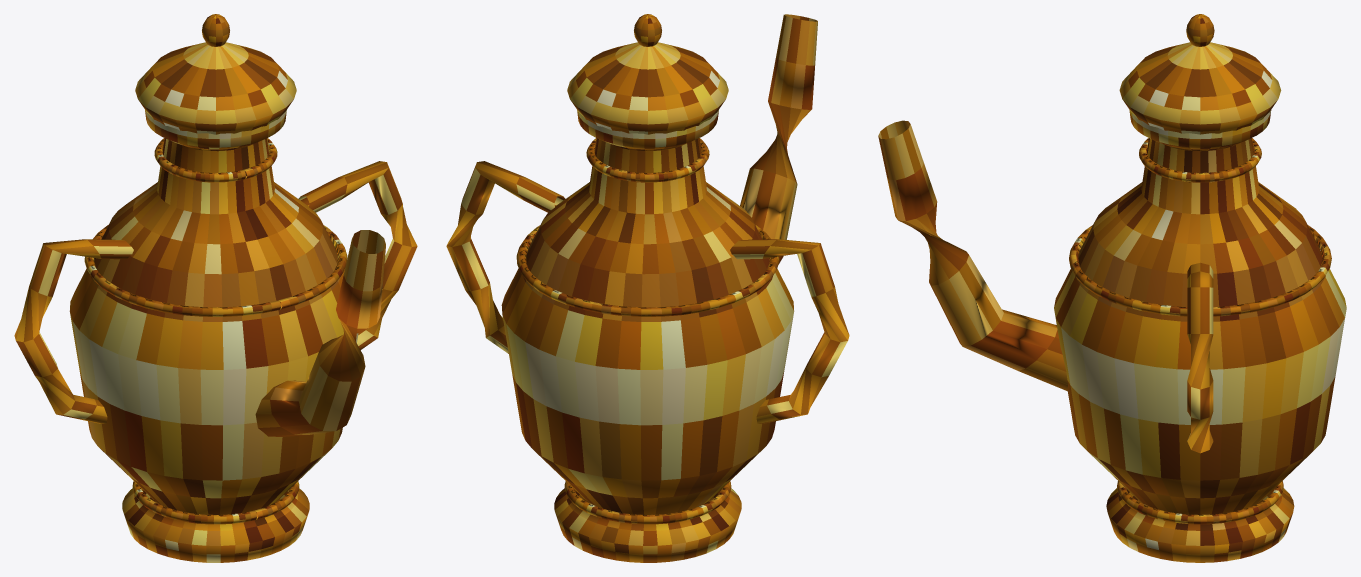
File: gold-ewer.glb
3 views of the same model, side by side, from view 1: azimuth 30°, elevation 25°; view 2: azimuth 150°, elevation 25°; view 3: azimuth 270°, elevation 25° (orthographic).
Visible parts, largest first — view 1: gold-ewer; view 2: gold-ewer; view 3: gold-ewer.
Boxes of the visible parts, left/top/right/bottom form: gold-ewer: left=14, top=14, right=417, bottom=562; gold-ewer: left=446, top=14, right=849, bottom=562; gold-ewer: left=878, top=14, right=1346, bottom=562.
Size of the model in its own units: 0.5035 by 0.6143 by 0.5105.
